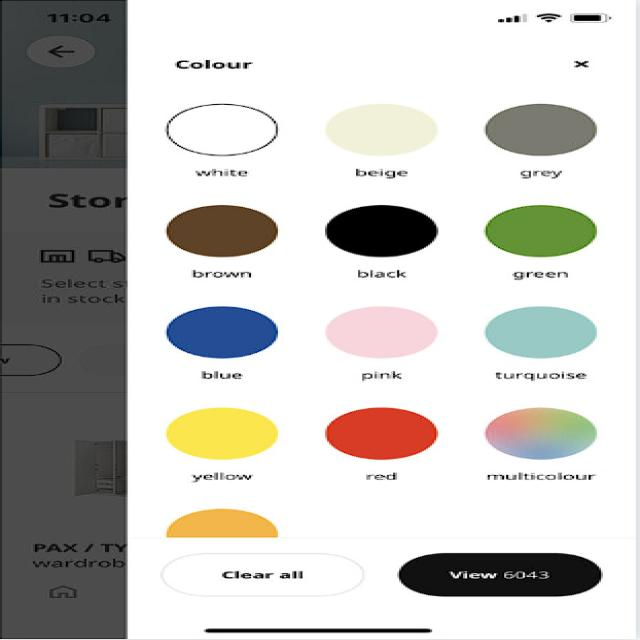button: (142, 545, 383, 605), (398, 546, 604, 600)
column: (125, 0, 640, 639), (306, 92, 468, 535), (480, 87, 640, 534), (142, 93, 296, 535)
icon button: (562, 44, 611, 79)
row: (125, 89, 640, 188), (125, 192, 640, 290), (125, 293, 640, 391), (144, 395, 640, 491)
text: (159, 48, 275, 78)
view: (157, 196, 306, 284), (321, 400, 463, 487), (315, 195, 447, 287), (312, 307, 458, 385), (486, 97, 618, 183), (315, 101, 458, 180), (489, 408, 630, 487), (159, 97, 289, 181), (153, 405, 284, 487), (488, 303, 614, 388), (150, 306, 284, 384), (491, 204, 609, 284)
